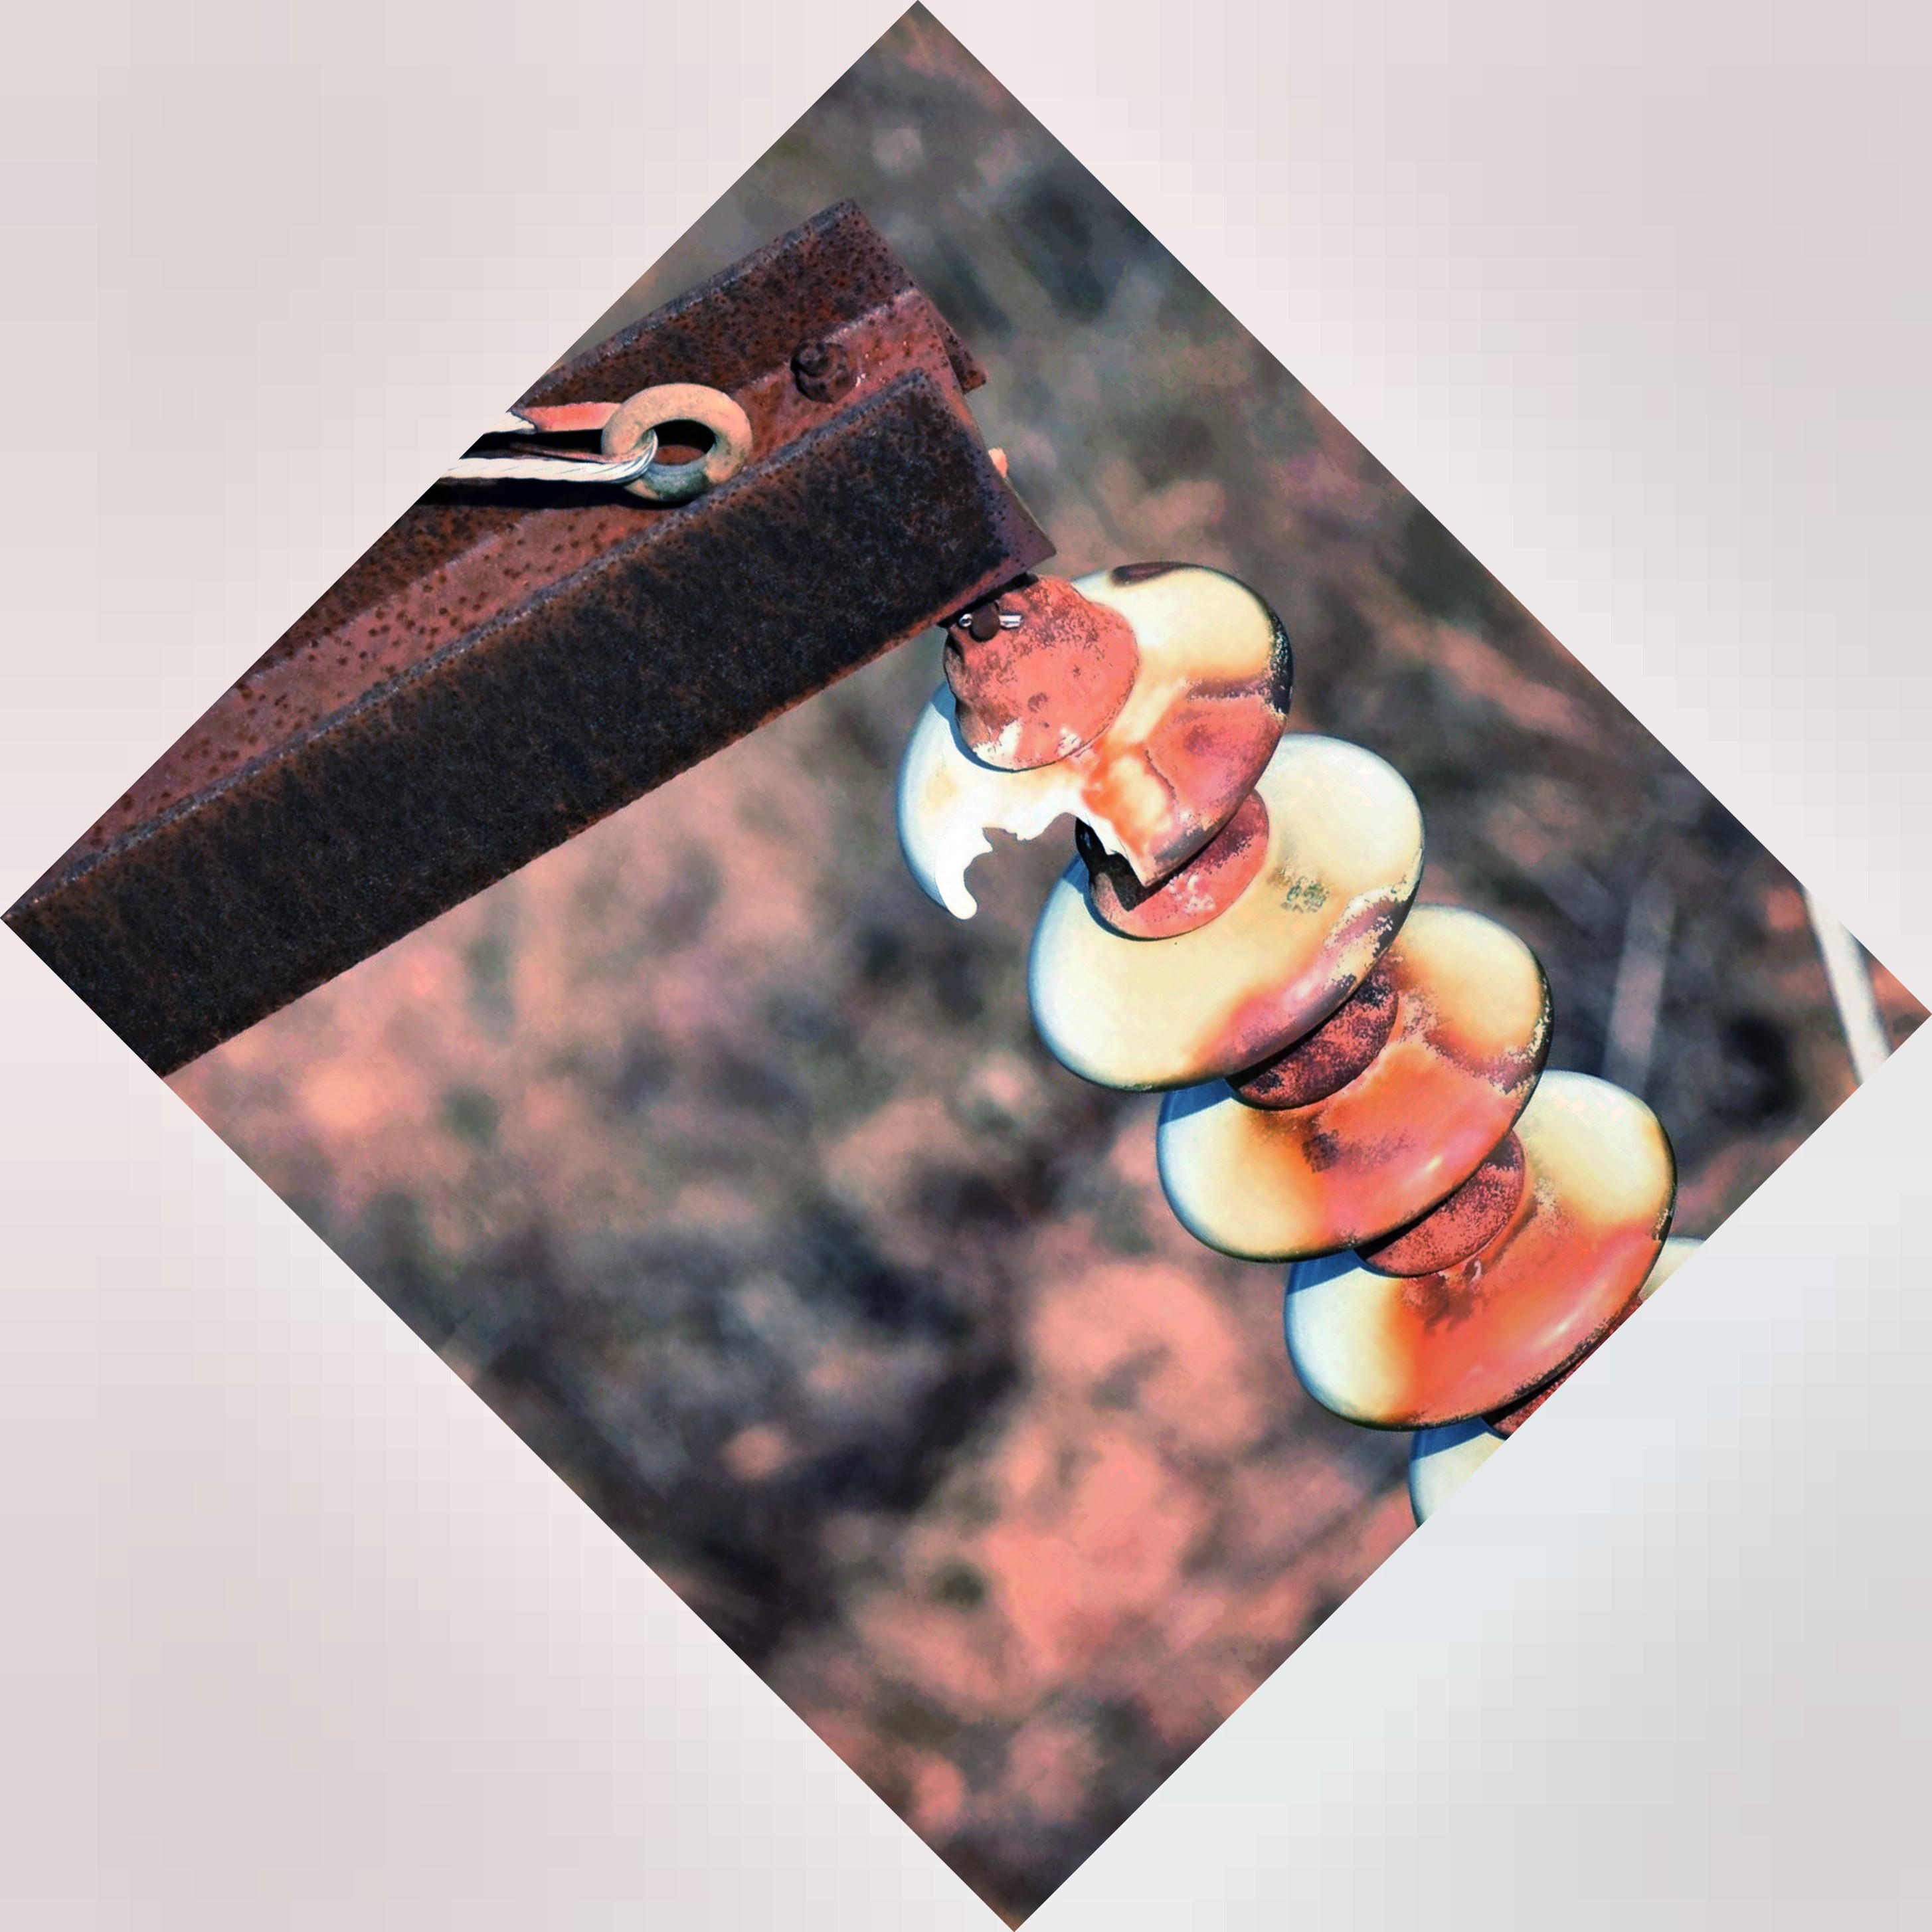insulator breakage: (888, 547, 1304, 943)
